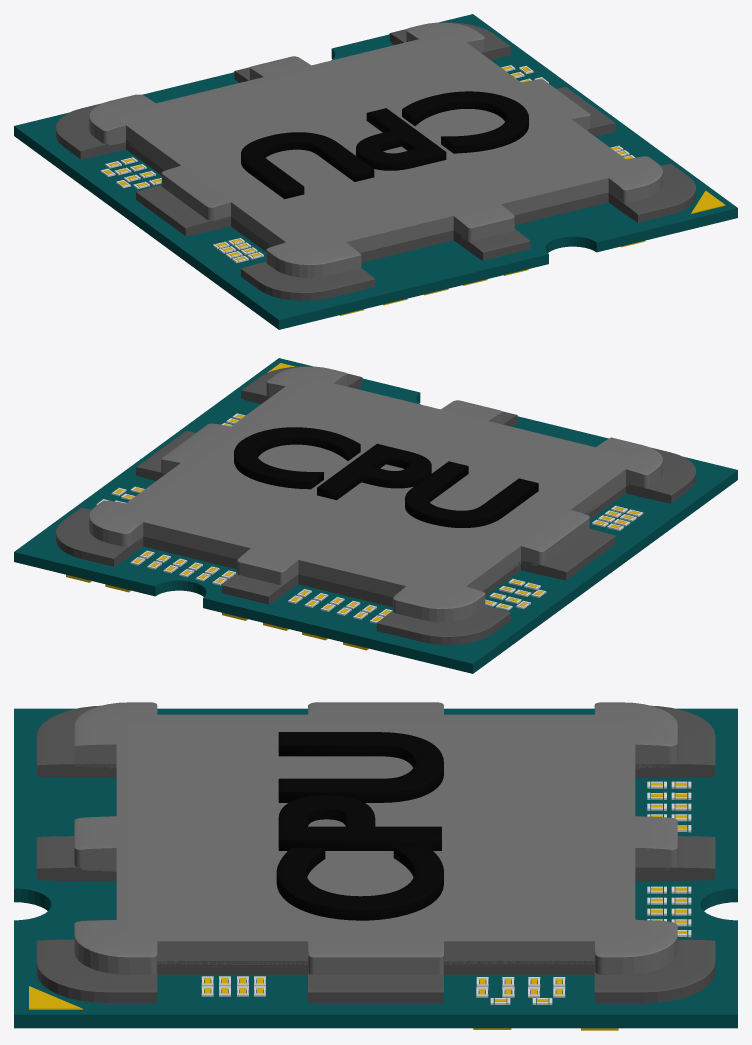
The model's file is CPU.glb.
3 renders of one model, top to bottom at view 1: azimuth 30°, elevation 25°; view 2: azimuth 150°, elevation 25°; view 3: azimuth 270°, elevation 25°, orthographic. The views are drawn at different scales.
Parts seen in each view (by area): view 1: Cube.002, Cube, Cube.001, TEXT; view 2: Cube.002, Cube, Cube.001, TEXT; view 3: Cube.002, Cube, Cube.001, TEXT, Cube.003.
Part boxes in pixels (x1,y1,x2,y2): Cube.002: [89, 22, 662, 277]; Cube: [14, 14, 737, 329]; Cube.001: [56, 22, 695, 300]; TEXT: [241, 91, 528, 199]; Cube.002: [89, 366, 662, 621]; Cube: [14, 358, 737, 673]; Cube.001: [56, 366, 695, 644]; TEXT: [234, 427, 538, 527]; Cube.002: [74, 702, 677, 974]; Cube: [14, 708, 737, 1028]; Cube.001: [36, 705, 715, 1002]; TEXT: [276, 732, 443, 920]; Cube.003: [29, 986, 82, 1009].
Size of the model in its own units: 19.2 by 1.95 by 19.2.
